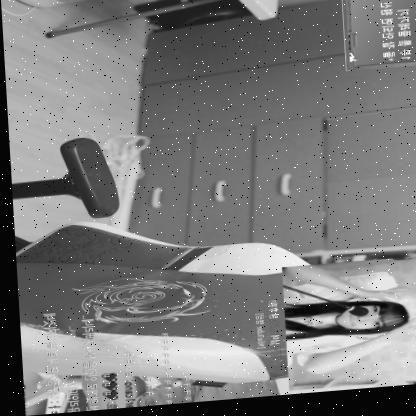donation: (245, 262, 416, 398)
